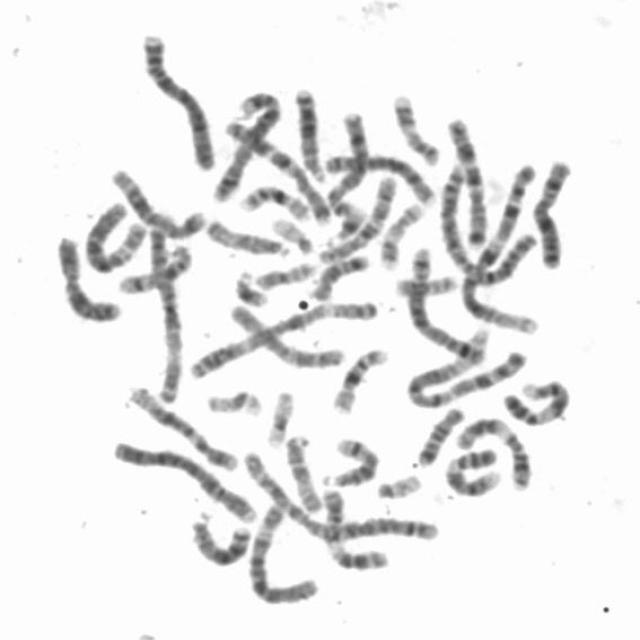A1: (444, 158, 540, 337), (401, 341, 532, 409)
A2: (234, 445, 440, 545), (432, 153, 538, 287)
A3: (183, 294, 381, 381), (140, 215, 184, 407)
B4: (106, 434, 262, 524), (138, 26, 220, 172)
B5: (402, 240, 488, 364), (208, 85, 284, 203)
C10: (225, 296, 346, 369), (316, 172, 398, 267)
C11: (317, 482, 393, 573), (453, 410, 536, 493)
C12: (122, 380, 239, 472), (105, 161, 210, 241)
C6: (244, 499, 323, 606), (80, 195, 148, 274)
C7: (222, 112, 336, 225), (440, 109, 491, 250)
C8: (318, 148, 439, 208), (323, 104, 371, 219)
C9: (496, 373, 574, 428), (440, 441, 505, 499)
D13: (186, 509, 254, 568), (289, 82, 327, 183)
D14: (113, 238, 195, 296), (316, 432, 383, 490)
D15: (201, 213, 293, 259), (280, 429, 325, 514)
E16: (326, 342, 391, 416), (236, 179, 314, 223)
E17: (387, 88, 443, 167), (372, 196, 427, 270)
E18: (304, 248, 374, 303), (412, 403, 466, 467)
F19: (261, 384, 297, 449), (201, 384, 265, 418)
F20: (252, 256, 319, 292), (390, 269, 460, 298)
G21: (322, 202, 368, 247), (229, 266, 271, 308)
G22: (266, 212, 316, 255), (372, 468, 424, 500)
X: (50, 230, 124, 324), (527, 153, 576, 270)
